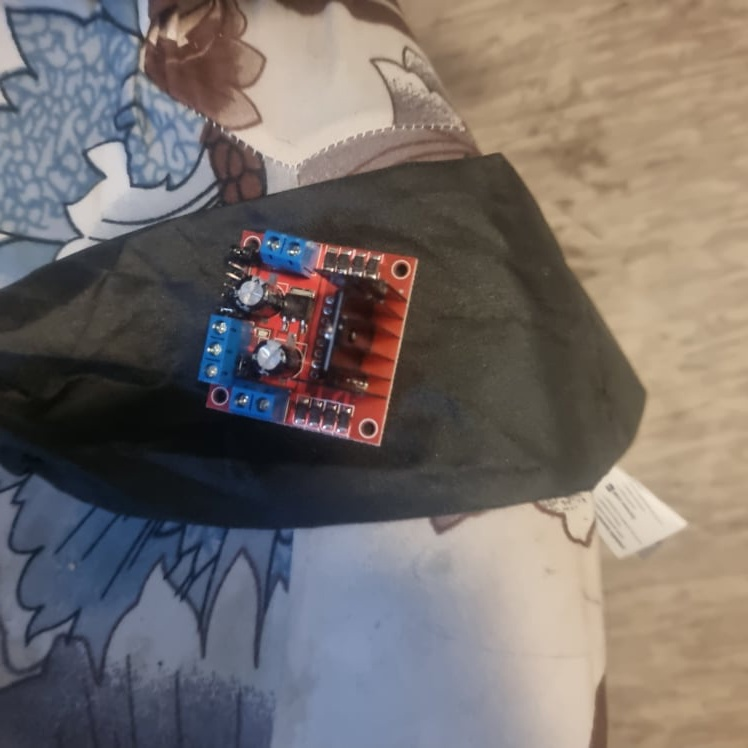MOTOR: (194, 225, 425, 453)
